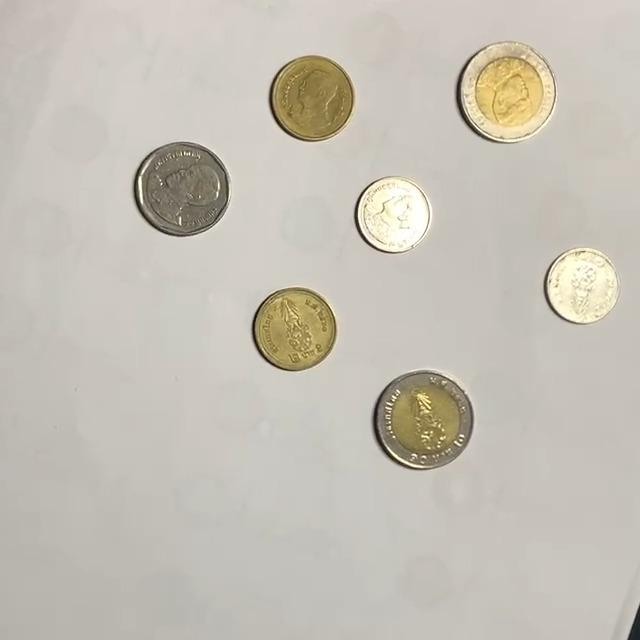1-baht: (544, 247, 622, 325), (356, 176, 434, 254)
10-baht: (459, 40, 559, 141), (375, 371, 475, 469)
2-baht: (271, 55, 358, 141), (254, 287, 339, 371)
5-baht: (135, 141, 232, 237)
